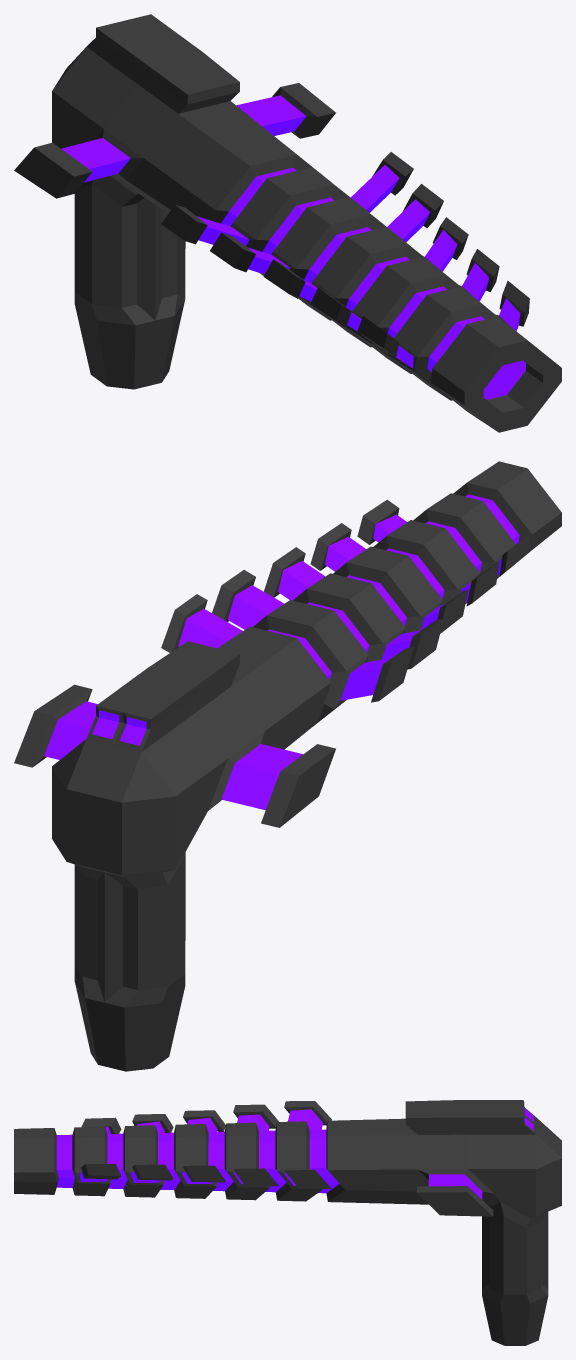
Rendered from Laserbeam.fbx.
3 views of the same model, one above another, from view 1: azimuth 30°, elevation 25°; view 2: azimuth 150°, elevation 25°; view 3: azimuth 270°, elevation 25° (orthographic). The views are drawn at different scales.
Visible parts, largest first — view 1: Cube; view 2: Cube; view 3: Cube.
Boxes of the visible parts, x1,y1,x2,y2 form: Cube: [14, 14, 561, 432]; Cube: [14, 461, 561, 1071]; Cube: [14, 1100, 561, 1345].
Bounding box in the file's own units: 429 × 536 × 1172.
